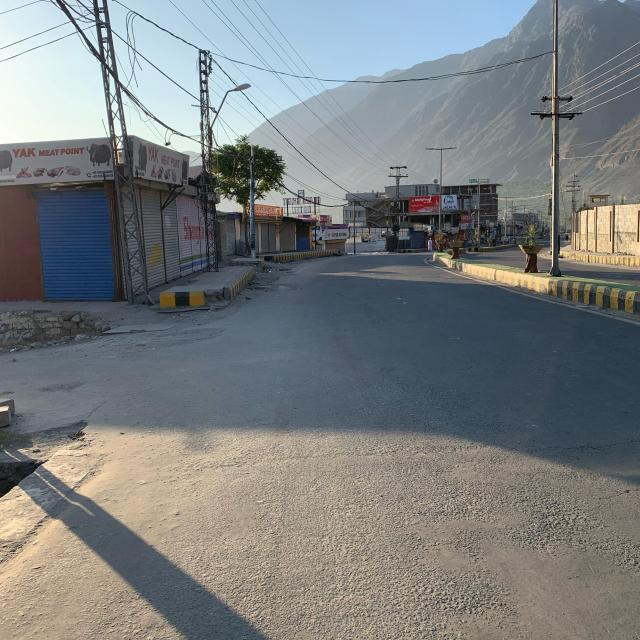Left-Turn: (0, 311, 309, 575)
straight: (368, 251, 589, 467)
